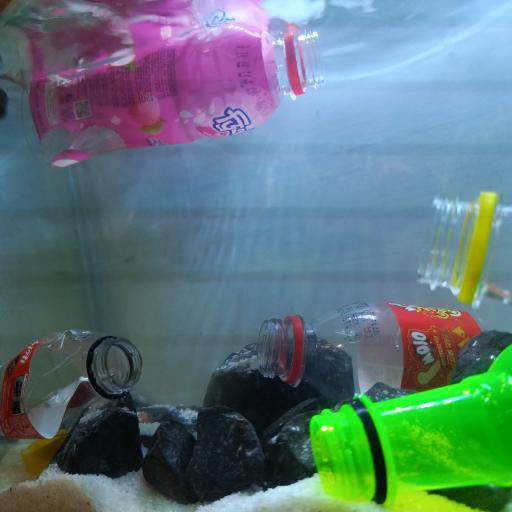bottle_cap: (19, 437, 68, 482)
plastic_bottle: (24, 26, 323, 172), (313, 336, 512, 506), (255, 298, 512, 403), (5, 326, 147, 462), (417, 187, 512, 318)
